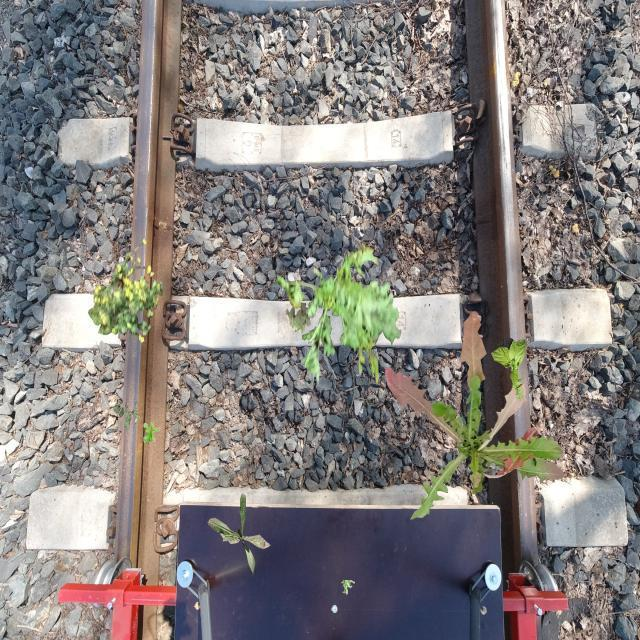Plant: (385, 311, 565, 520), (277, 240, 402, 387), (88, 238, 163, 343), (207, 493, 271, 577), (491, 338, 526, 400), (286, 302, 312, 334), (113, 400, 140, 430), (143, 421, 160, 445), (341, 580, 355, 596)
